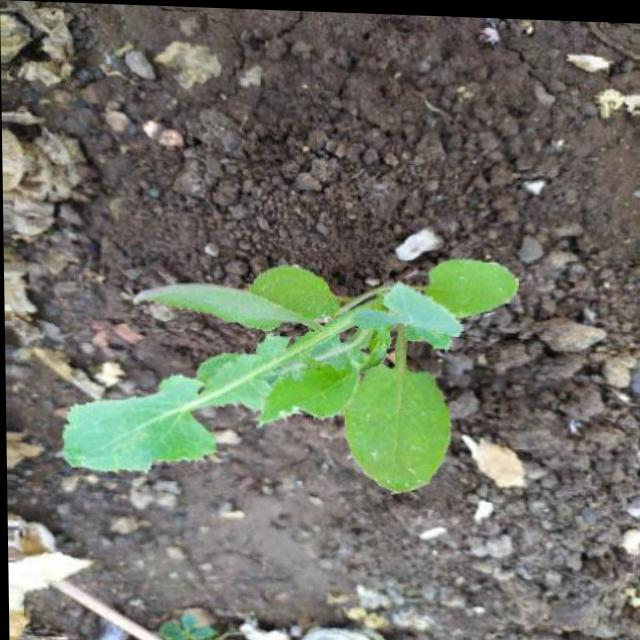weed: (57, 228, 526, 514)
